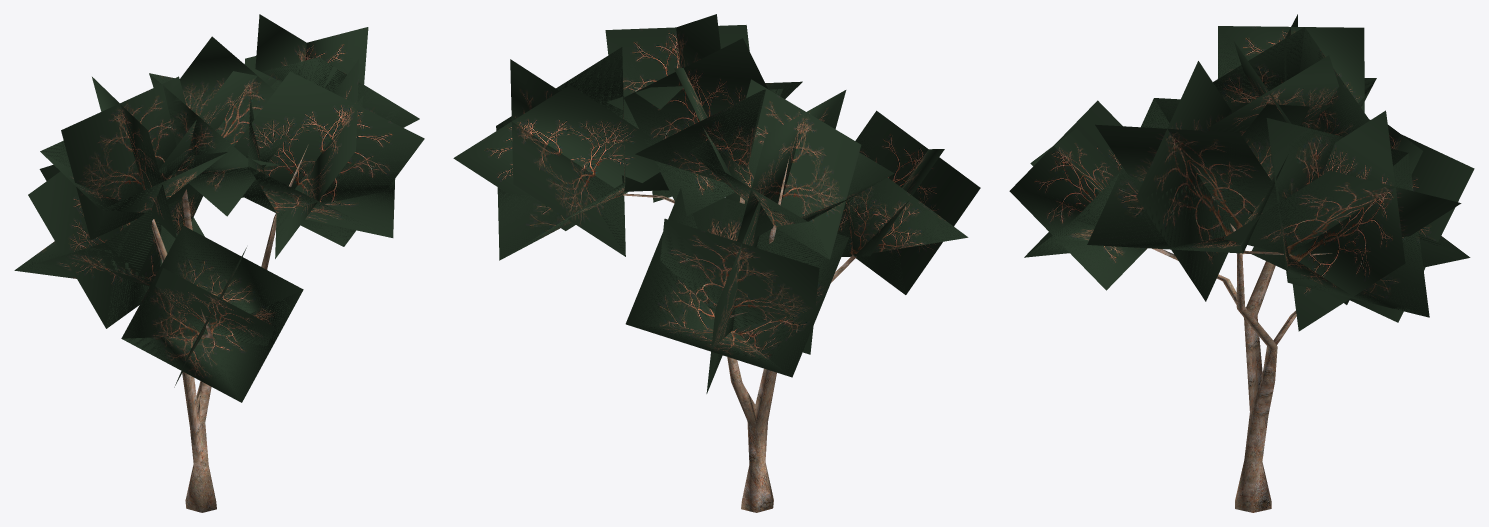
Rendered from decd_ginkgotreebranches_a1_l0.fbx.
The picture shows the model from 3 angles, left to right: view 1: azimuth 30°, elevation 25°; view 2: azimuth 150°, elevation 25°; view 3: azimuth 270°, elevation 25°; orthographic projection. The views are drawn at different scales.
Visible parts, largest first — view 1: mesh_node; view 2: mesh_node; view 3: mesh_node.
Boxes of the visible parts, x1=… form: mesh_node: x1=14, y1=14, x2=424, y2=512; mesh_node: x1=453, y1=14, x2=980, y2=512; mesh_node: x1=1009, y1=14, x2=1474, y2=512.
Size of the model in its own units: 7.49 by 8.3 by 7.31.
3 materials, 3 textured.
